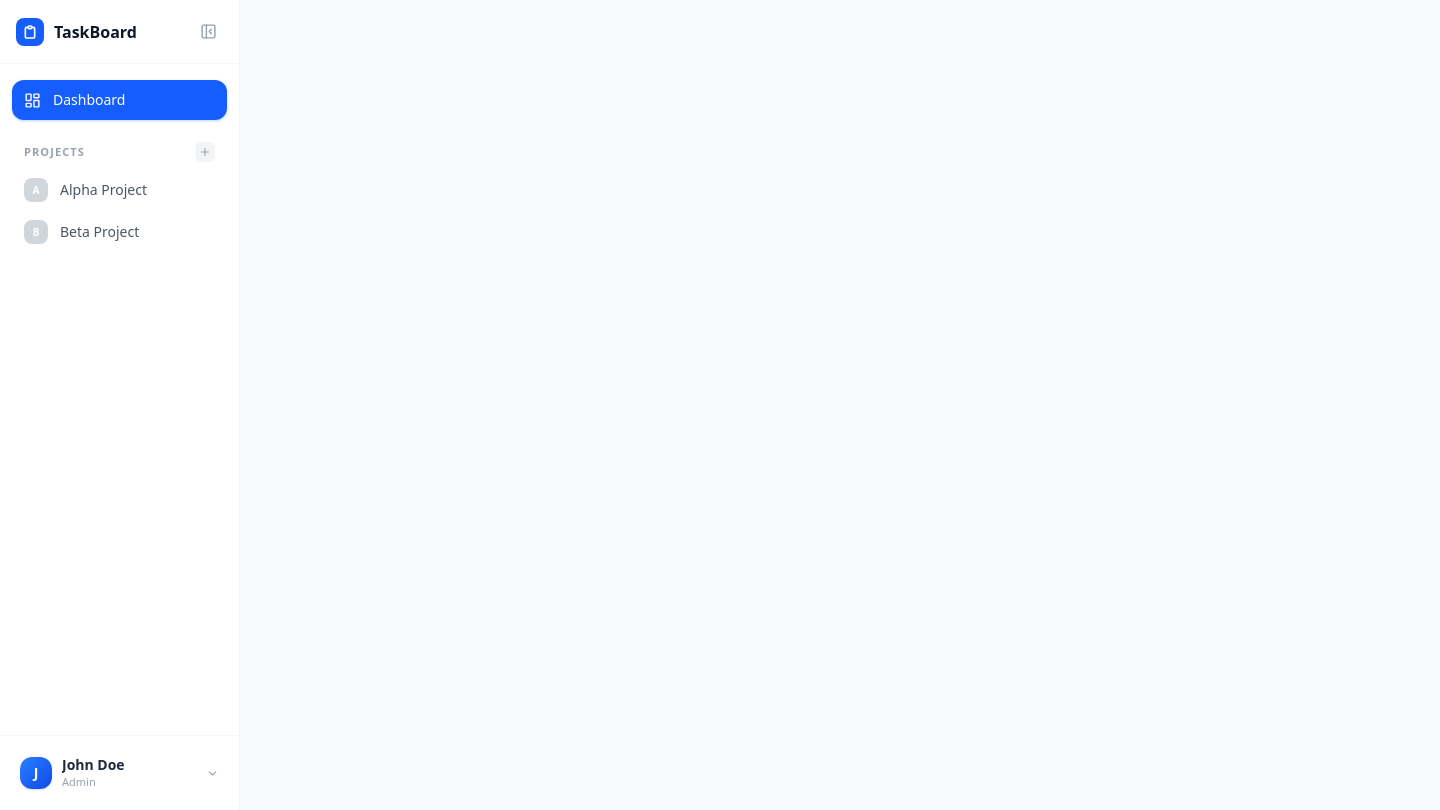
Test case: Sidebar › opens New Project dialog when + button clicked
Click the button without text next to "Projects". click: (205, 152)
box: left=195, top=142, right=215, bottom=162
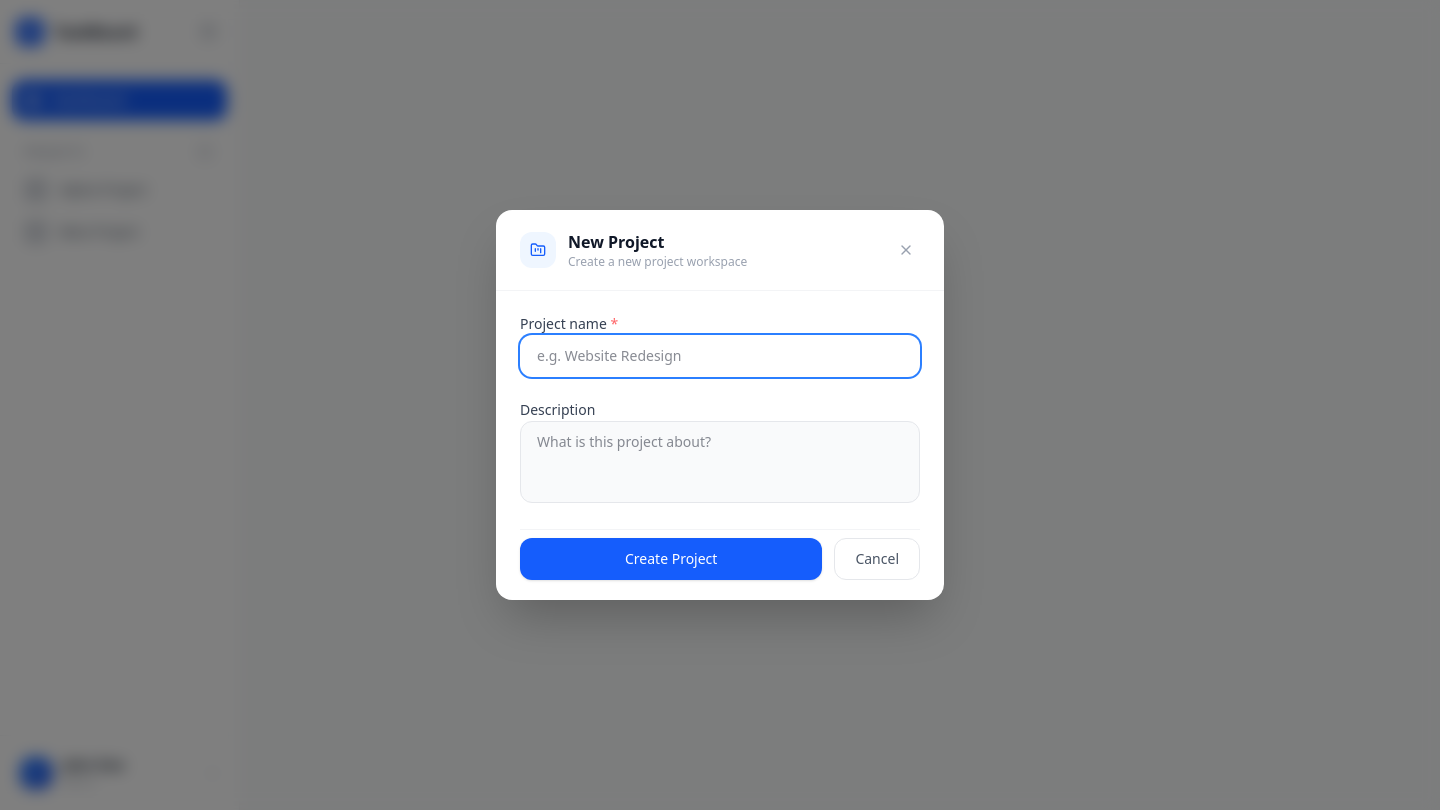
Result: the heading "New Project" is shown at left=568, top=231, right=664, bottom=253
